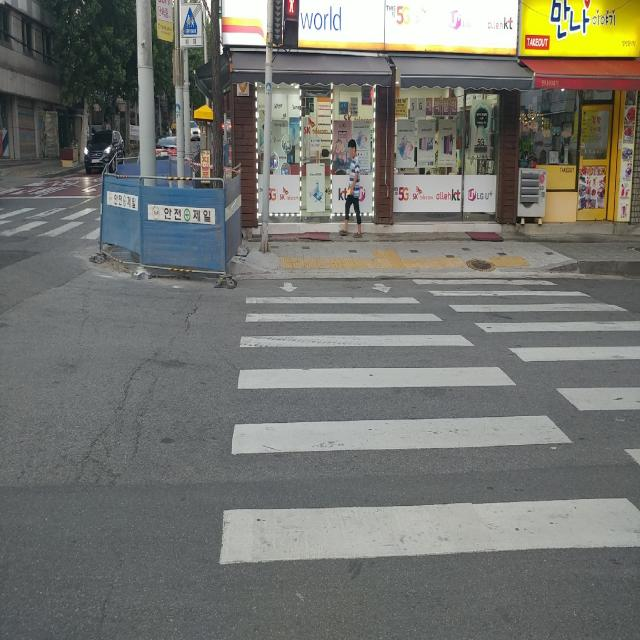빨간불: (284, 0, 298, 44)
횡단보도: (218, 276, 640, 570), (4, 203, 98, 238)
